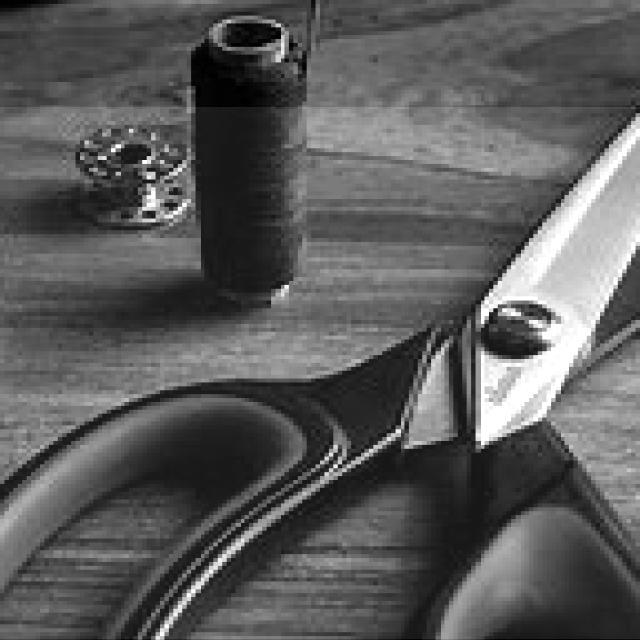tesoura: (0, 108, 639, 639)
